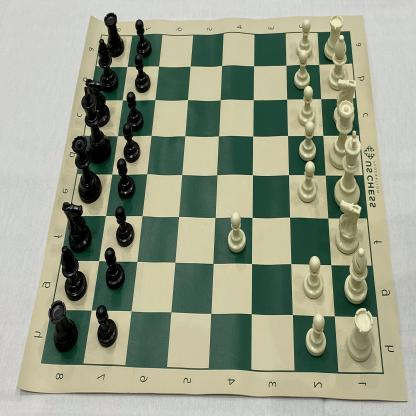black-bishop: (60, 244, 87, 301), (97, 36, 118, 93)
black-king: (81, 86, 111, 165)
black-knight: (63, 198, 92, 250), (84, 78, 110, 128)
black-pawn: (95, 304, 118, 350), (122, 122, 146, 164), (104, 246, 126, 291), (114, 206, 136, 248), (116, 158, 136, 200), (125, 91, 145, 133), (134, 54, 154, 95), (136, 16, 153, 58)
black-queen: (72, 133, 102, 203)
black-rook: (47, 299, 79, 355), (102, 11, 125, 59)
white-bishop: (343, 246, 372, 305), (327, 31, 351, 91)
white-king: (334, 129, 364, 210)
white-knight: (334, 197, 367, 254), (333, 77, 358, 128)
white-pawn: (302, 252, 327, 301), (304, 311, 329, 357), (296, 159, 320, 205), (226, 209, 248, 256), (298, 120, 320, 163), (297, 85, 318, 128), (292, 49, 312, 92), (295, 17, 315, 59)
white-queen: (328, 100, 357, 172)
white-rook: (344, 307, 376, 365), (323, 14, 347, 62)
